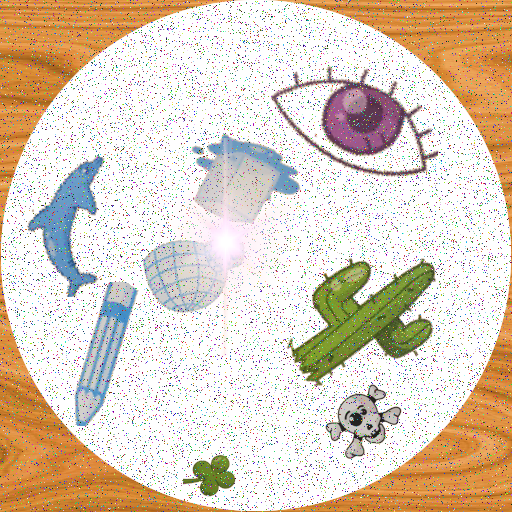cactus_icon: (271, 227, 451, 407)
cloverleaf_icon: (183, 445, 237, 499)
cube_icon: (176, 123, 302, 249)
dolphin_icon: (1, 152, 146, 297)
eye_icon: (267, 36, 443, 212)
igloo_icon: (143, 213, 251, 321)
pen_icon: (30, 282, 174, 426)
skull_icon: (321, 376, 407, 462)
